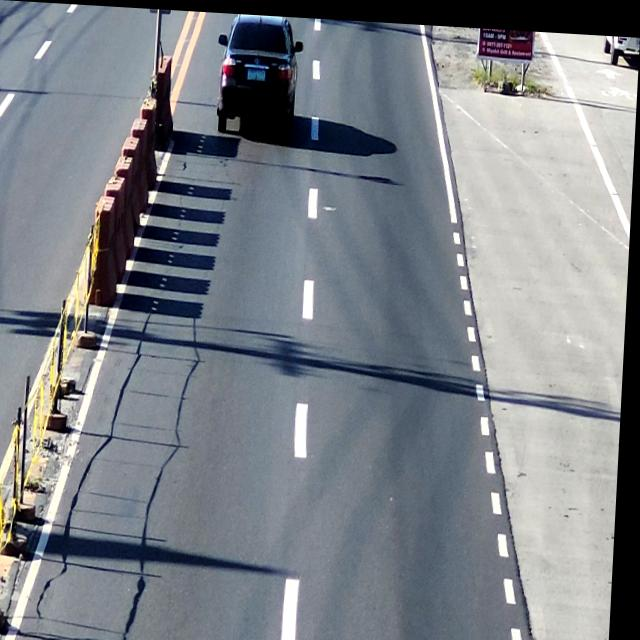Car: (218, 10, 302, 133)
License-Plate: (245, 59, 270, 83)
